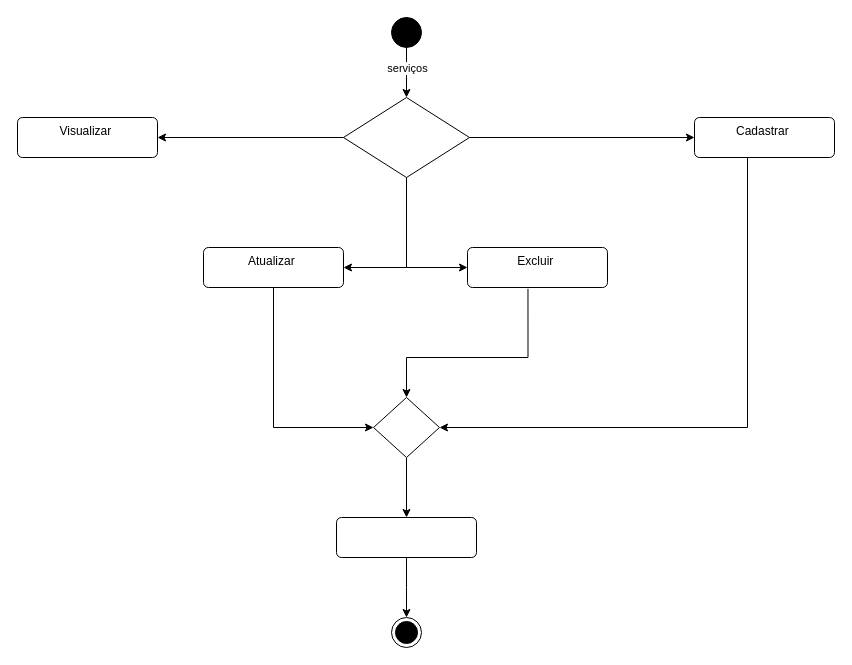
The diagram is 852 pixels wide and 665 high, and some of its shapes have lost their labels. Here are the shapes that lost their labels. From the top down, the centre of each, then its label:
At point (406, 137): "Abre o menu".
At point (406, 537): "Inserir dados necessários".
